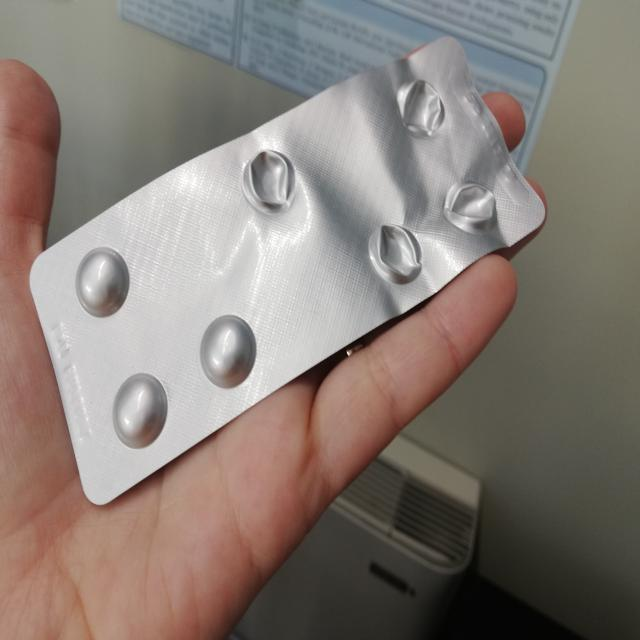Empty: (241, 144, 301, 218), (366, 218, 424, 288), (442, 174, 499, 238), (394, 75, 447, 141)
Pill: (104, 365, 174, 454), (195, 310, 262, 394), (73, 242, 133, 321)
